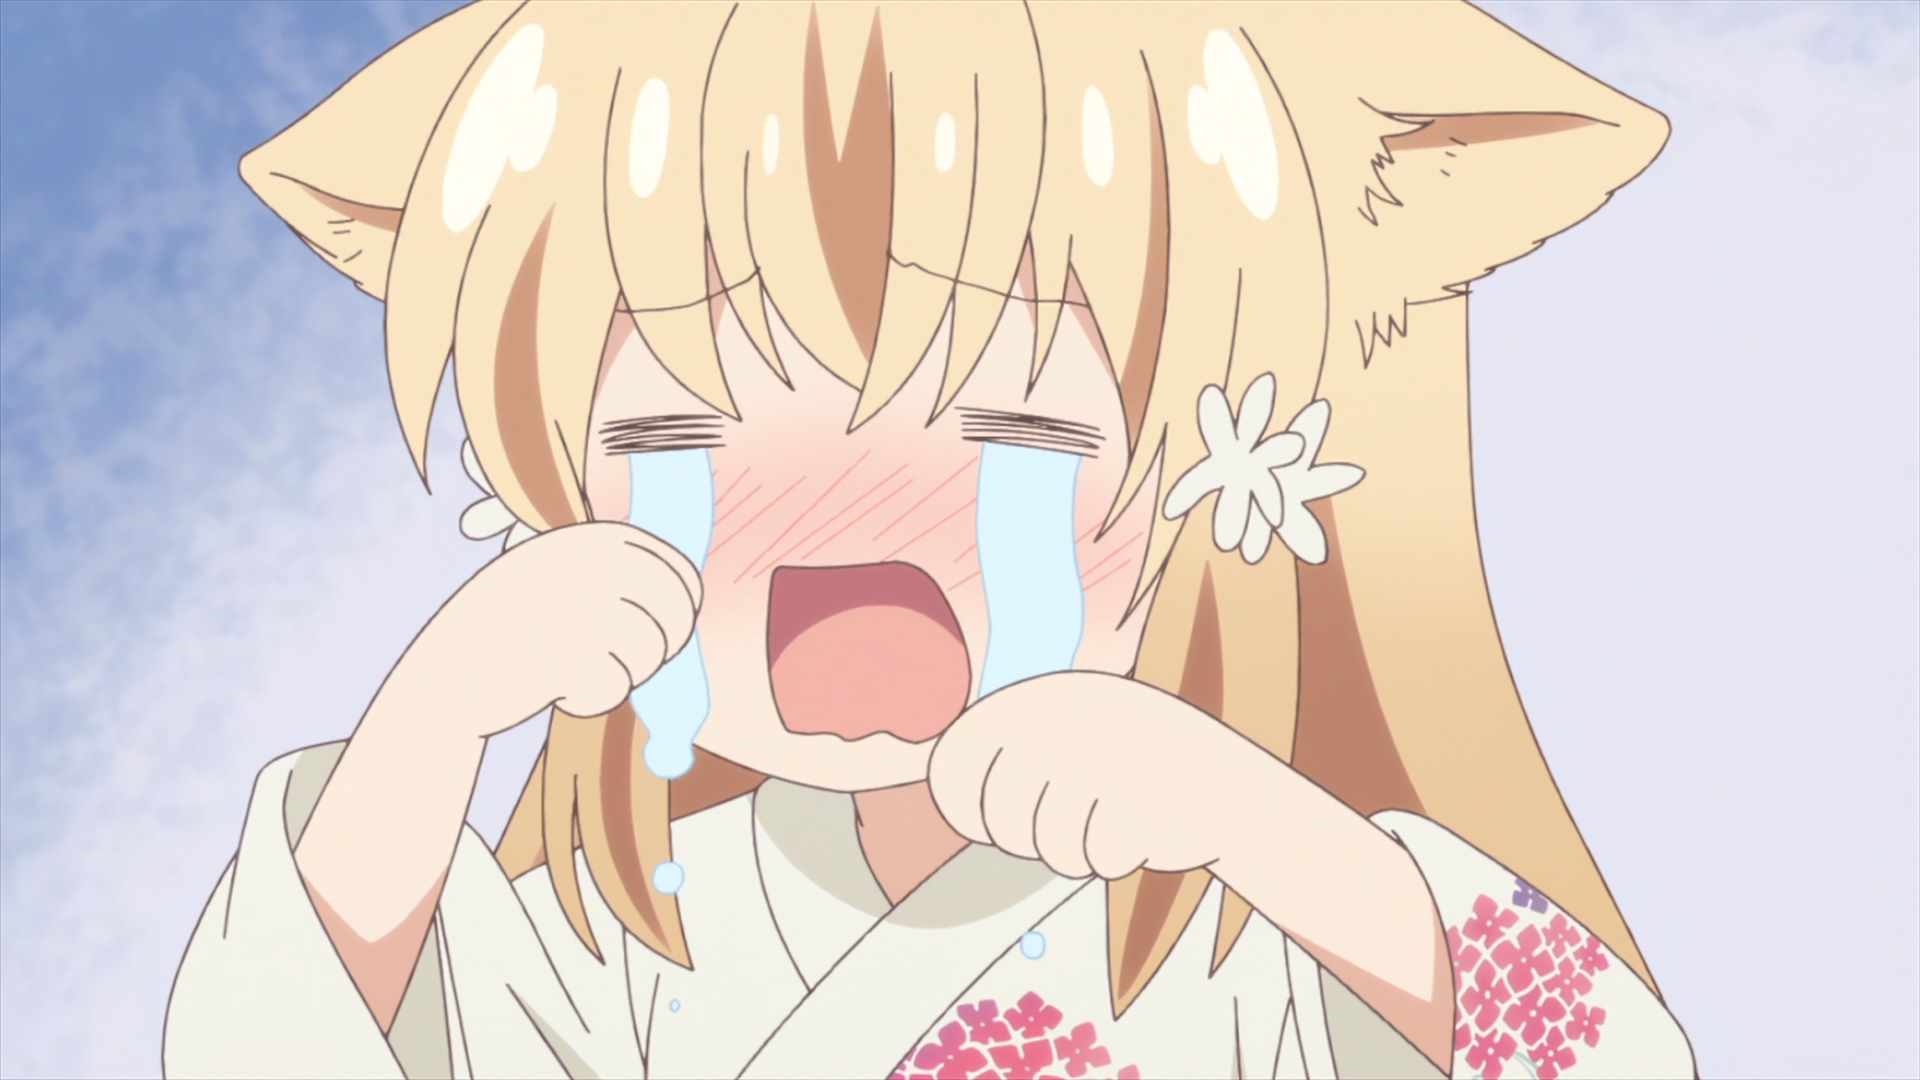柚: (161, 1, 1697, 1080)
